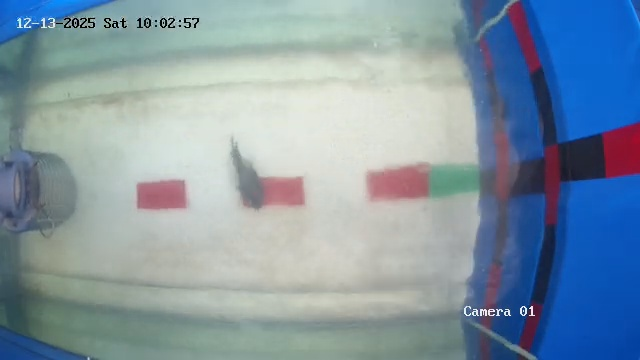fish: (224, 136, 263, 216)
